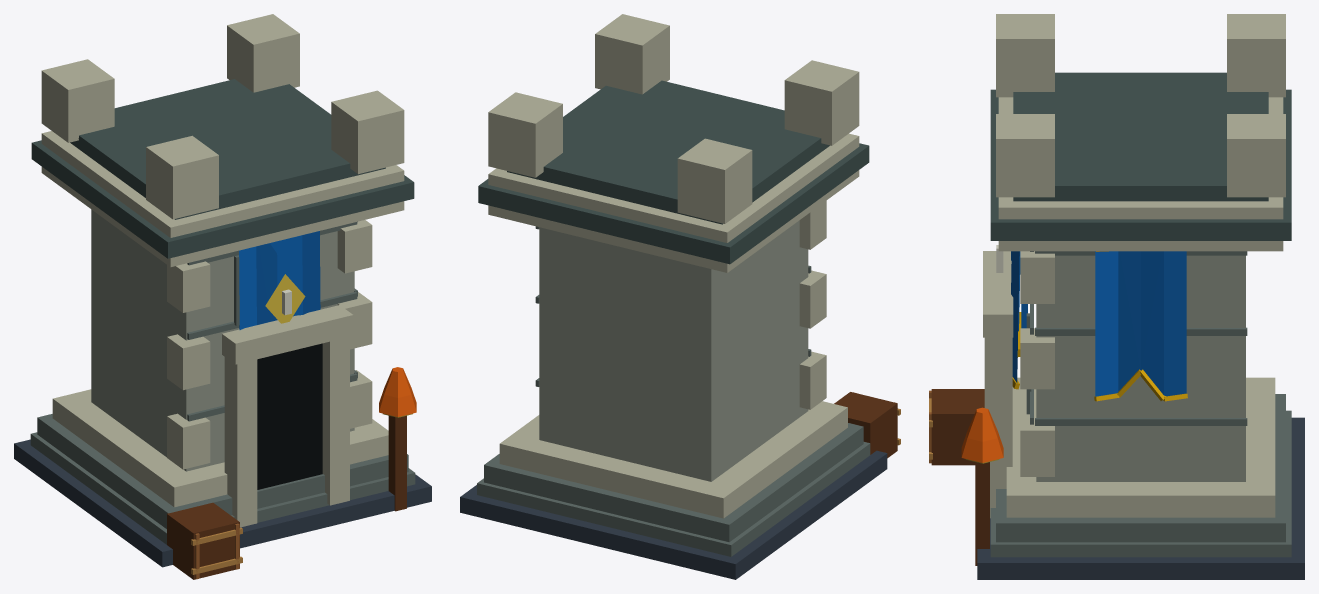
The model's file is tower_base.fbx.
3 views of the same model, side by side, from view 1: azimuth 30°, elevation 25°; view 2: azimuth 150°, elevation 25°; view 3: azimuth 270°, elevation 25° (orthographic). The views are drawn at different scales.
Parts seen in each view (by area): view 1: tower_base; view 2: tower_base; view 3: tower_base.
Part boxes in pixels (box(x1,y1,x2,y2)): tower_base: box(14, 14, 431, 579); tower_base: box(460, 14, 900, 579); tower_base: box(929, 14, 1304, 579).
Size of the model in its own units: 1.28 by 1.77 by 1.4.
